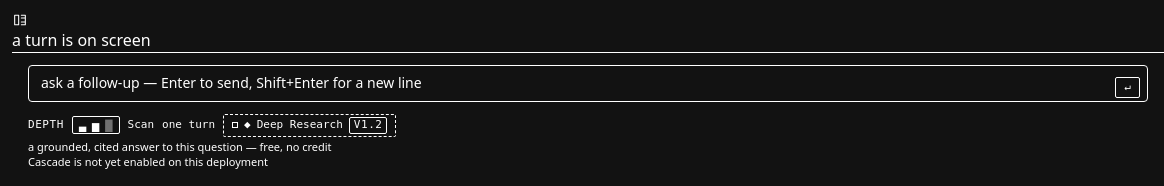
Test: TemplateLibrary: degradations › a failed fetch renders the button and an empty panel, never an error
The width and height of the screenshot is (1164, 186).
Click the button named "template library": (20, 20) 12,12 -> 28,28
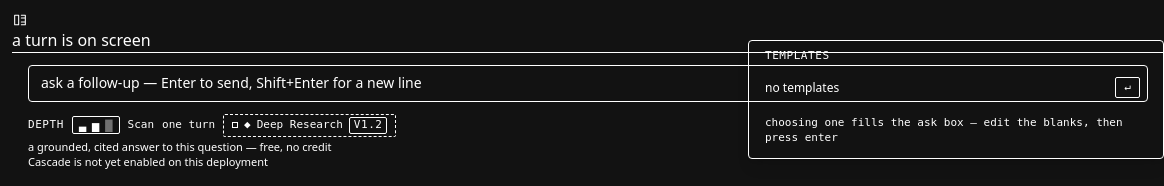
Expected: the text "no templates" is shown, 765,79 -> 839,96
